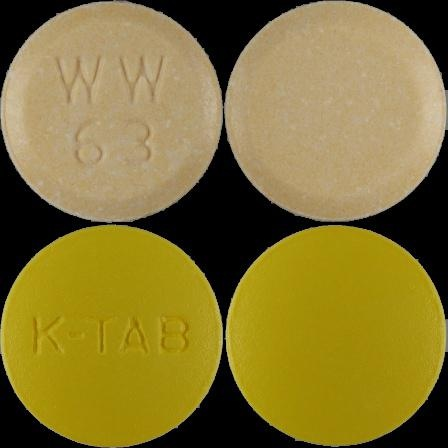50090-2085: (0, 0, 224, 224)
